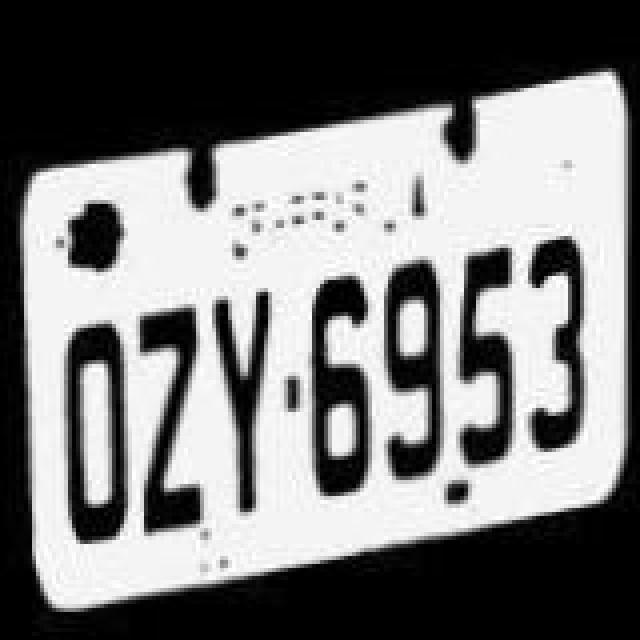3: (522, 212, 606, 472)
5: (448, 214, 536, 482)
6: (288, 258, 380, 518)
9: (376, 246, 448, 502)
O: (48, 306, 136, 554)
Y: (200, 278, 276, 530)
Z: (128, 300, 216, 556)
